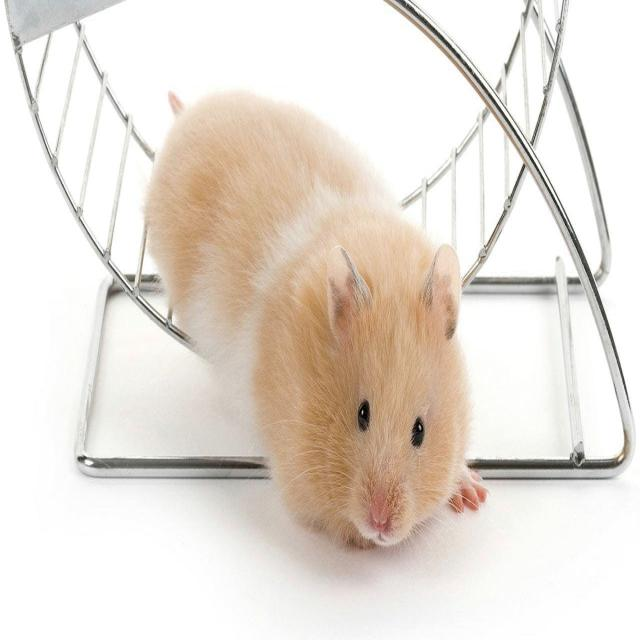hamster: (144, 90, 488, 547)
